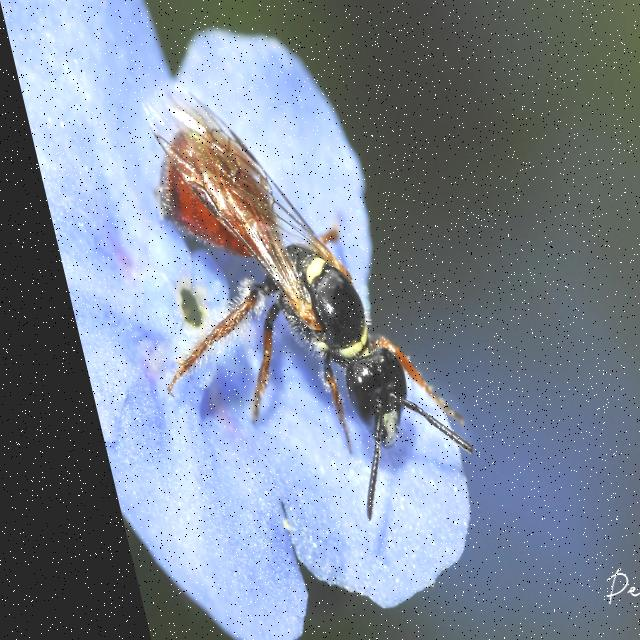Allodapula: (74, 73, 477, 539)
